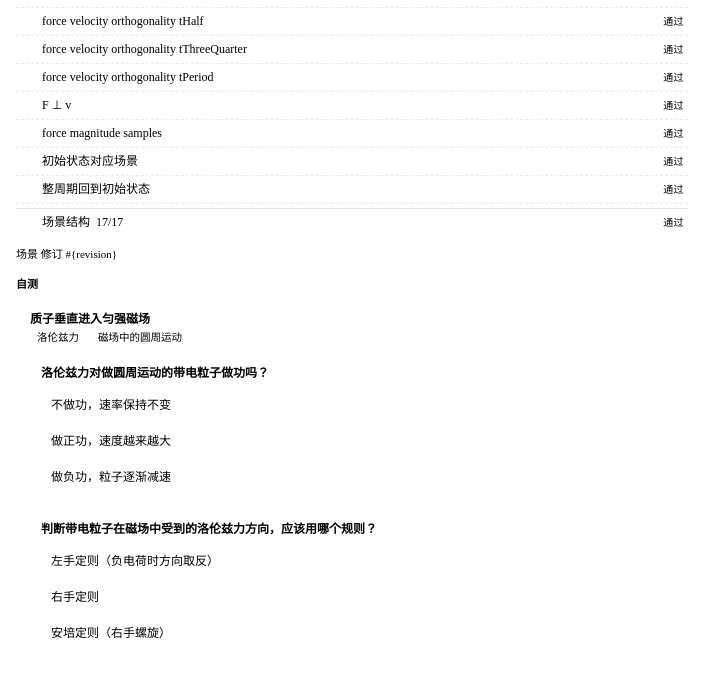
Test: solved-card self-checks (the migrated practice loop) › reinforces a correct answer with the takeaway and records it as correct
(page scrolled)
Click the button "不做功，速率保持不变".
click(111, 405)  # box [41, 390, 663, 420]
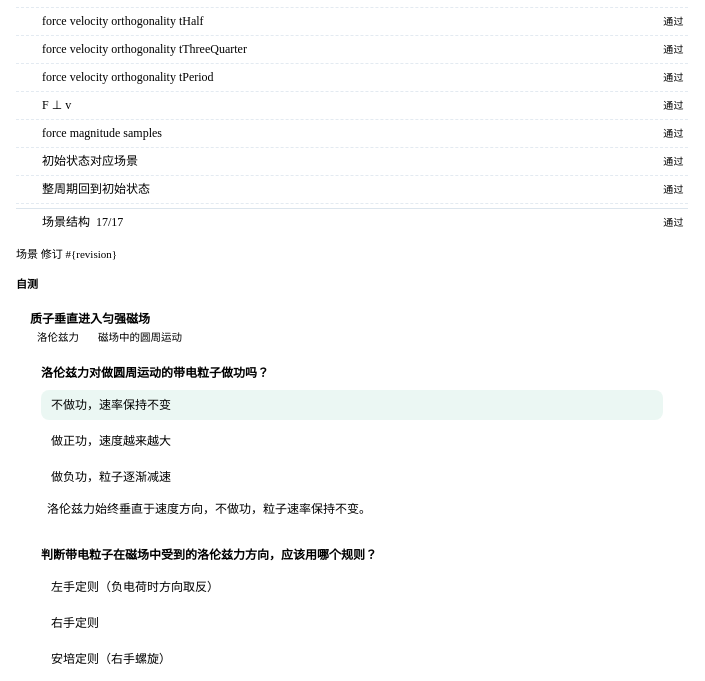
Expected: the text "洛伦兹力始终垂直于速度方向，不做功，粒子速率保持不变。" is shown, [47, 502, 371, 516]
